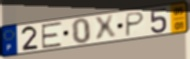0: (69, 18, 93, 45)
2: (20, 25, 39, 52)
5: (149, 7, 168, 35)
E: (40, 21, 64, 50)
P: (124, 11, 146, 38)
X: (93, 14, 118, 42)
